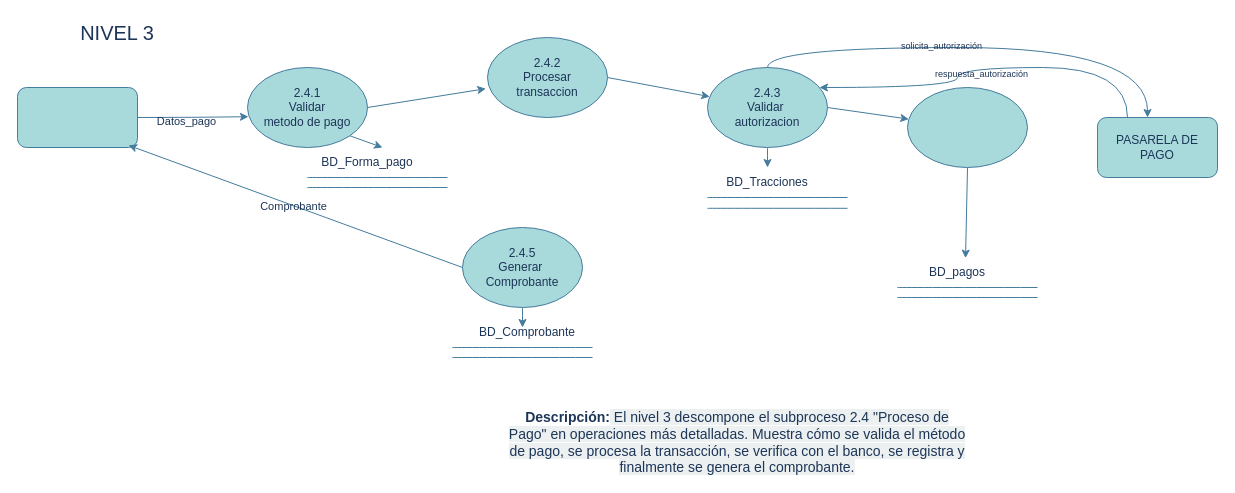
Some shapes in this 1235 by 493 pixel diagram are drawn without their labels. The shapes that lost their labels are listed below. From the top down, each one's centre as x and y in pixels, then its label:
At point 77,117: "CLIENTE".
At point 967,127: "2.4.4 Registrar pago".
